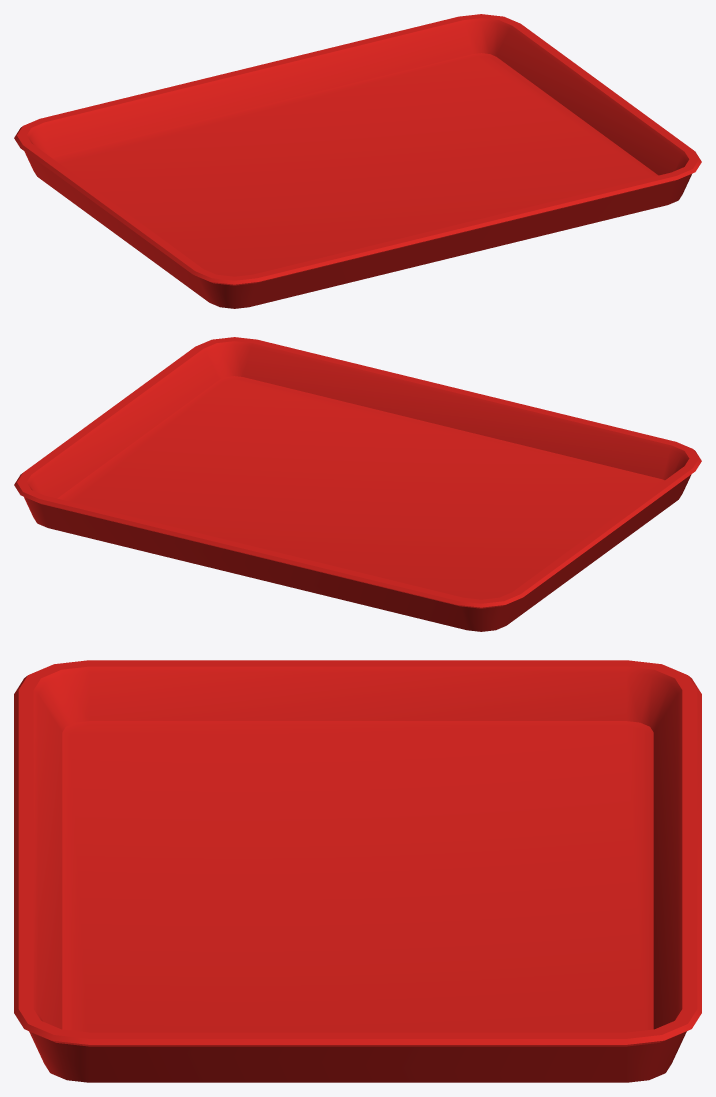
File: bandeja_entrega.glb
3 views of the same model, one above another, from view 1: azimuth 30°, elevation 25°; view 2: azimuth 150°, elevation 25°; view 3: azimuth 270°, elevation 25° (orthographic). The views are drawn at different scales.
Parts seen in each view (by area): view 1: bandeja_entrega_cuerpo; view 2: bandeja_entrega_cuerpo; view 3: bandeja_entrega_cuerpo.
Part boxes in pixels (left/top/right/bottom): bandeja_entrega_cuerpo: left=14, top=14, right=701, bottom=308; bandeja_entrega_cuerpo: left=14, top=337, right=701, bottom=631; bandeja_entrega_cuerpo: left=14, top=660, right=701, bottom=1082.
Size of what is drawn, in the model's own units: 0.3 by 0.02 by 0.228.
